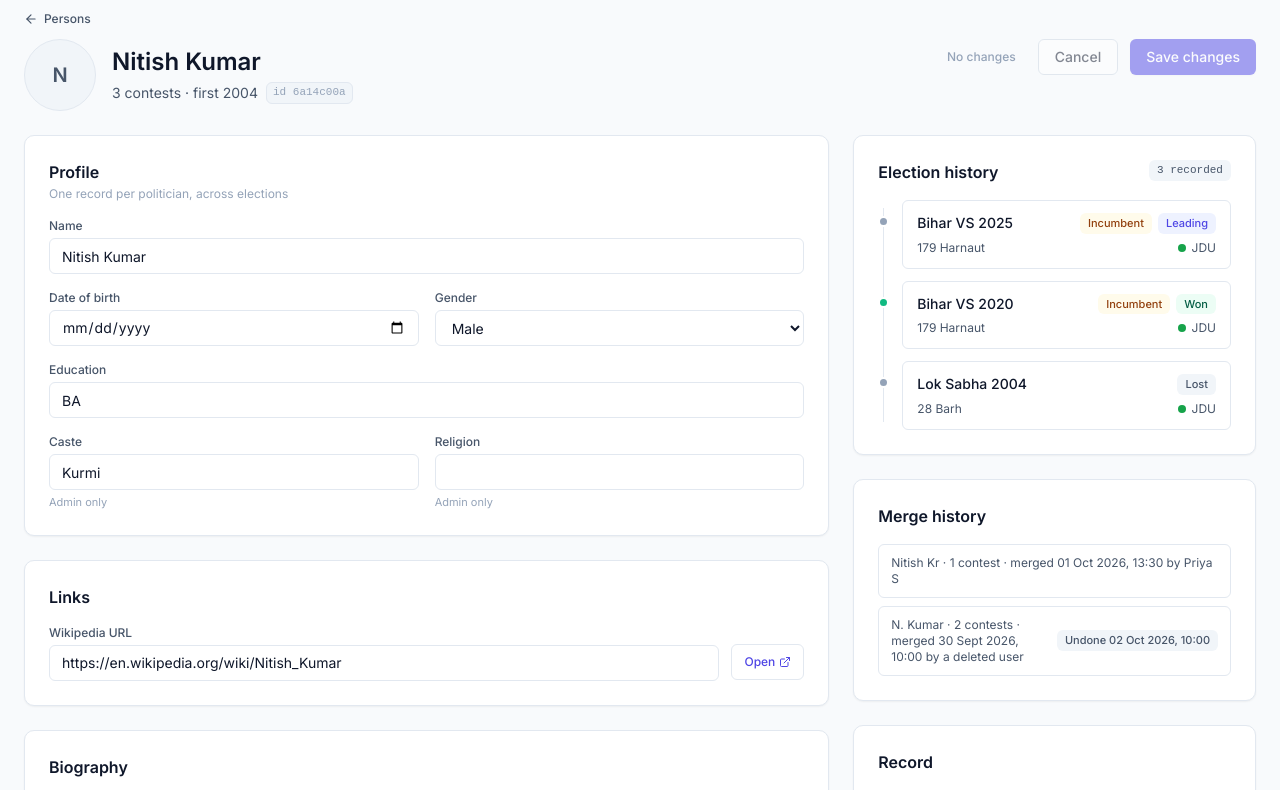
it: Person record page › Cancel reverts the edits
(page scrolled)
Replace the text in the field labelled "Education" with "MA" at coordinates (427, 400), box x1=49 y1=382 x2=804 y2=418
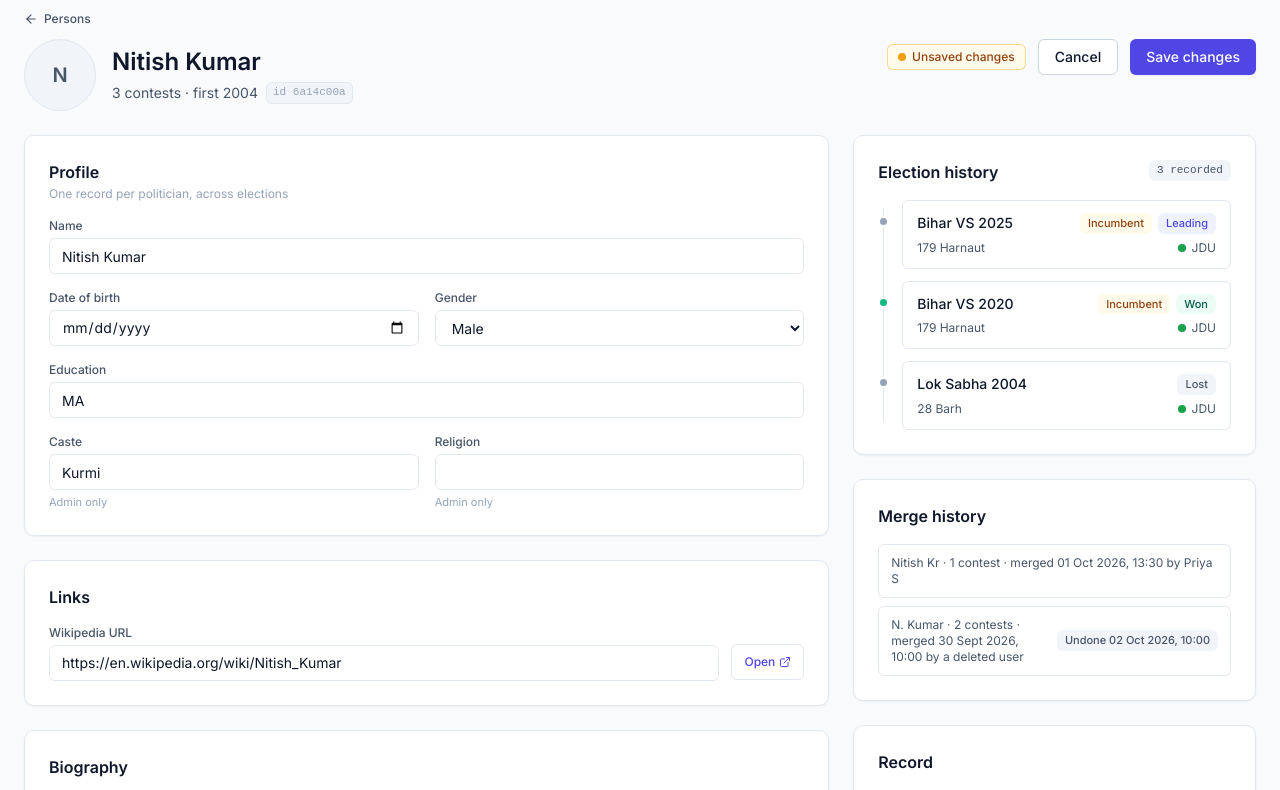
Click the button "Cancel" at coordinates (1078, 57), box x1=1038 y1=39 x2=1118 y2=75
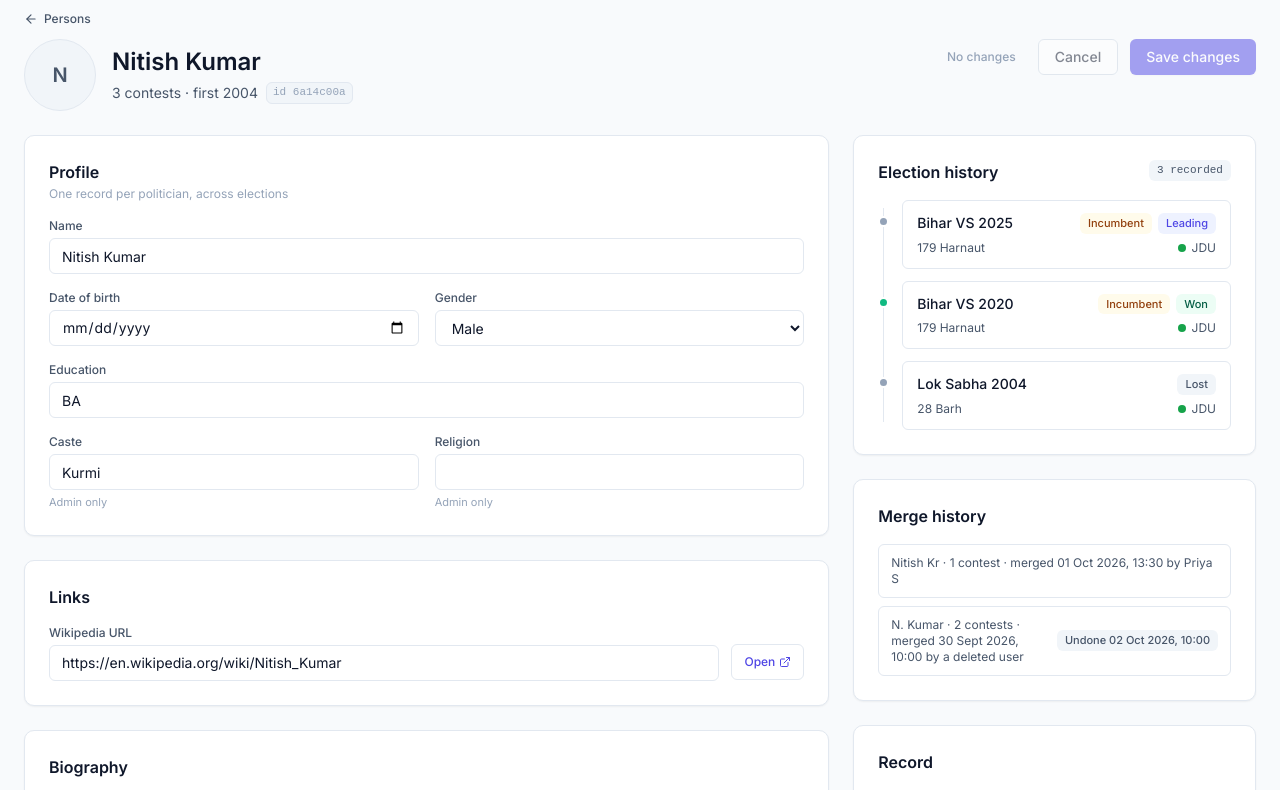
Check: the field labelled "Education" holds "BA", box x1=49 y1=382 x2=804 y2=418
Check: the text "No changes" is shown, box x1=947 y1=49 x2=1016 y2=64
